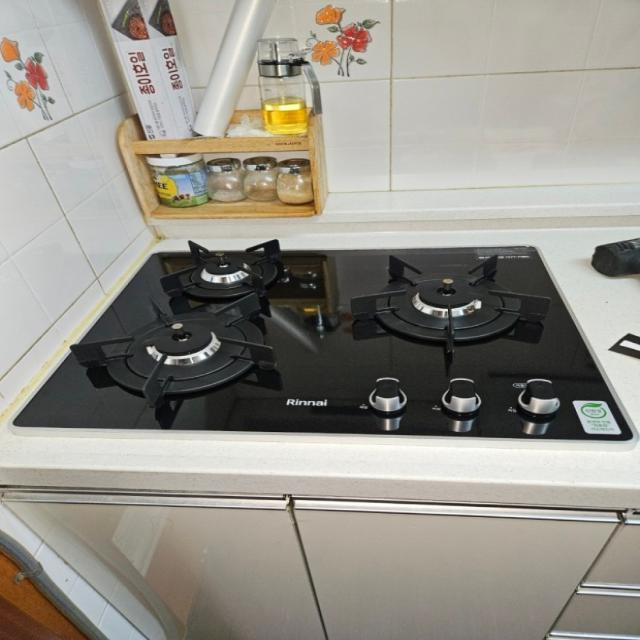knob_ON: (127, 230, 547, 427)
